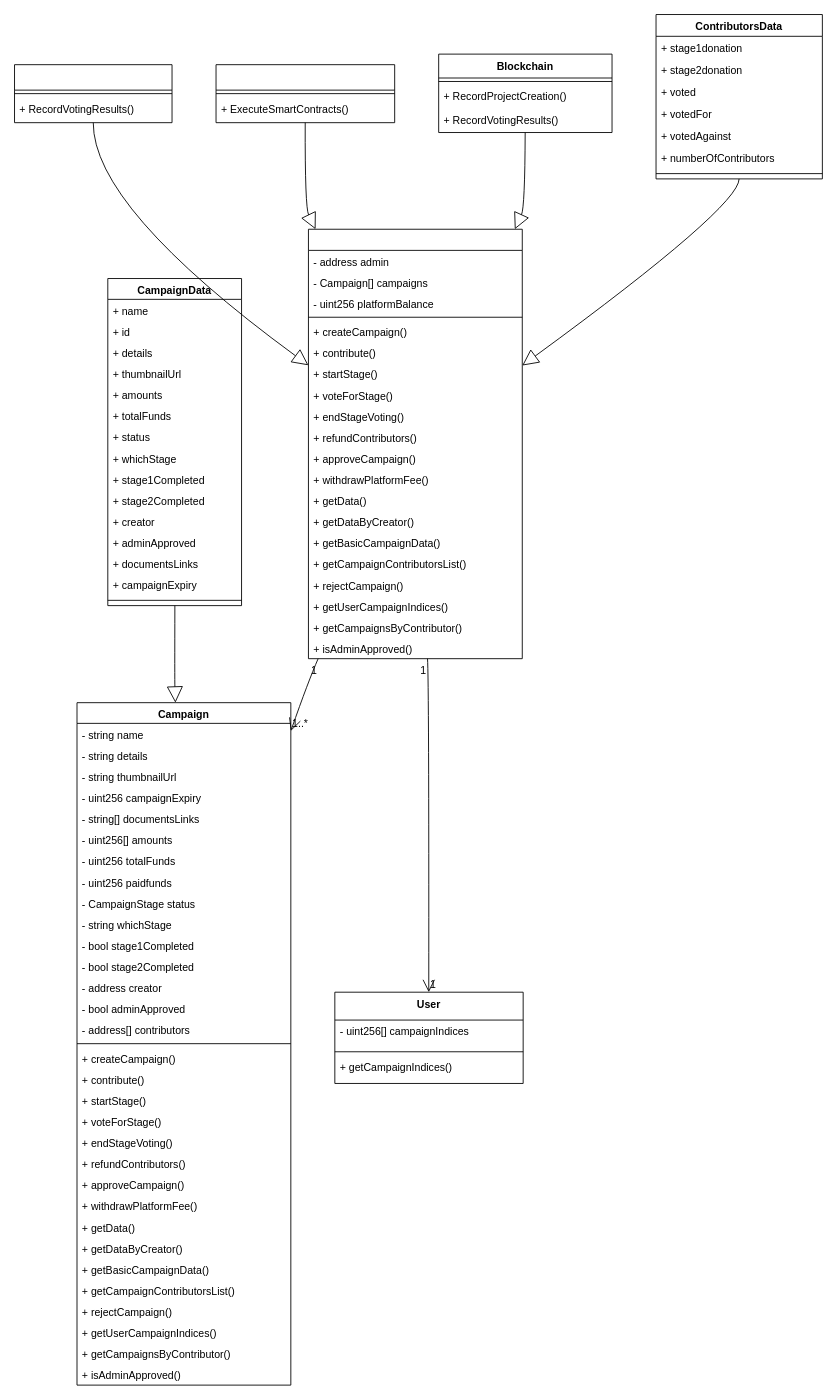
Image size: 837x1399. Some labels were removed from this diagram. The box of each missing label's shape, as (x1, y1, x2, y2) in pixels:
Ethereum: (215, 64, 395, 123)
FundingCampaign: (308, 228, 522, 659)
Stage: (14, 64, 172, 123)
